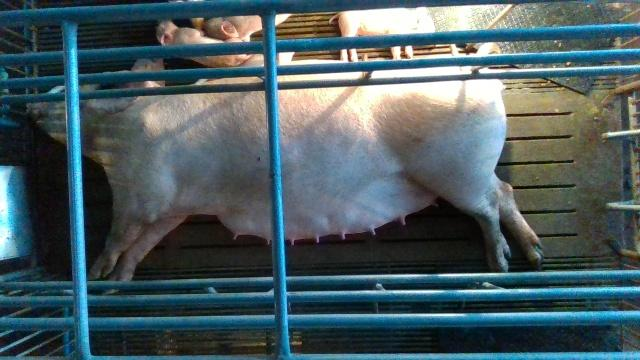piglet: (330, 9, 432, 59), (179, 0, 302, 35), (159, 28, 251, 66)
sow-sleep-lactate: (24, 43, 544, 298)
